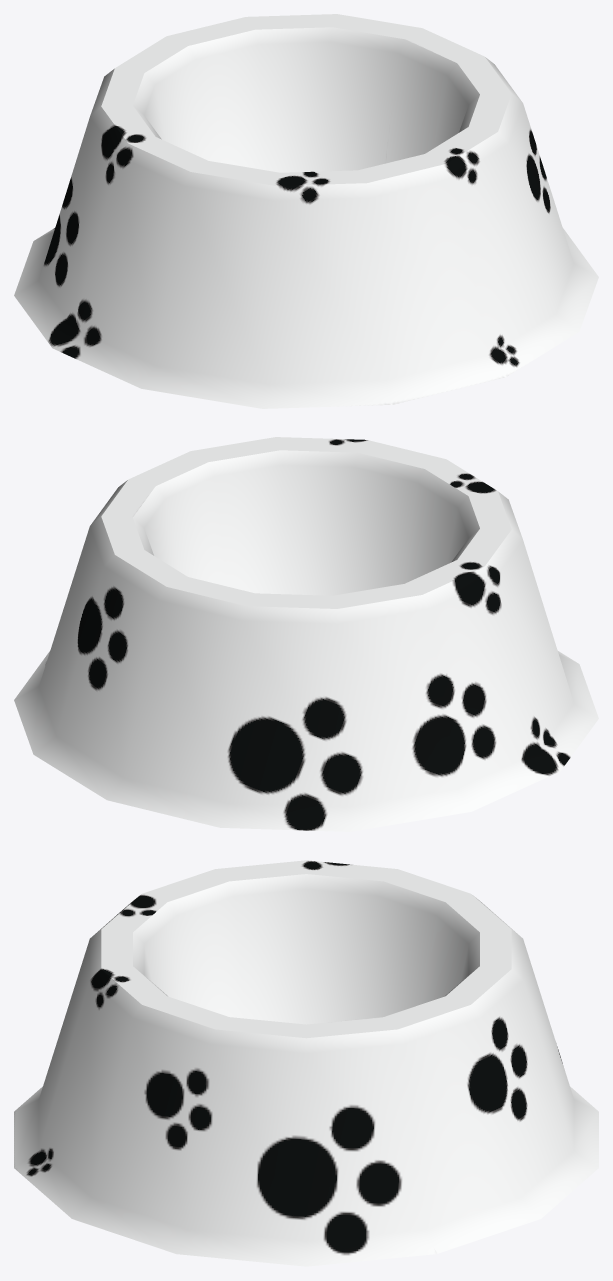
File: water_bakje (1).fbx
3 views of the same model, one above another, from view 1: azimuth 30°, elevation 25°; view 2: azimuth 150°, elevation 25°; view 3: azimuth 270°, elevation 25° (orthographic). The views are drawn at different scales.
Parts seen in each view (by area): view 1: Tube; view 2: Tube; view 3: Tube.
Boxes of the visible parts, bbox=[...] form: Tube: bbox=[14, 14, 598, 408]; Tube: bbox=[14, 437, 598, 831]; Tube: bbox=[14, 860, 598, 1266].
Bounding box in the file's own units: 10.81 × 3.79 × 10.54.
Materials: 1 (1 with a texture image).
